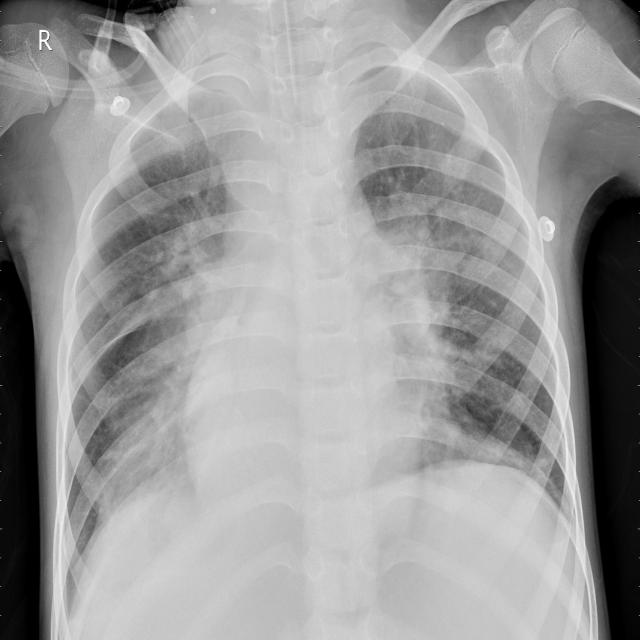high-pneumonia: (97, 238, 227, 522), (133, 69, 258, 191), (388, 184, 468, 374)
